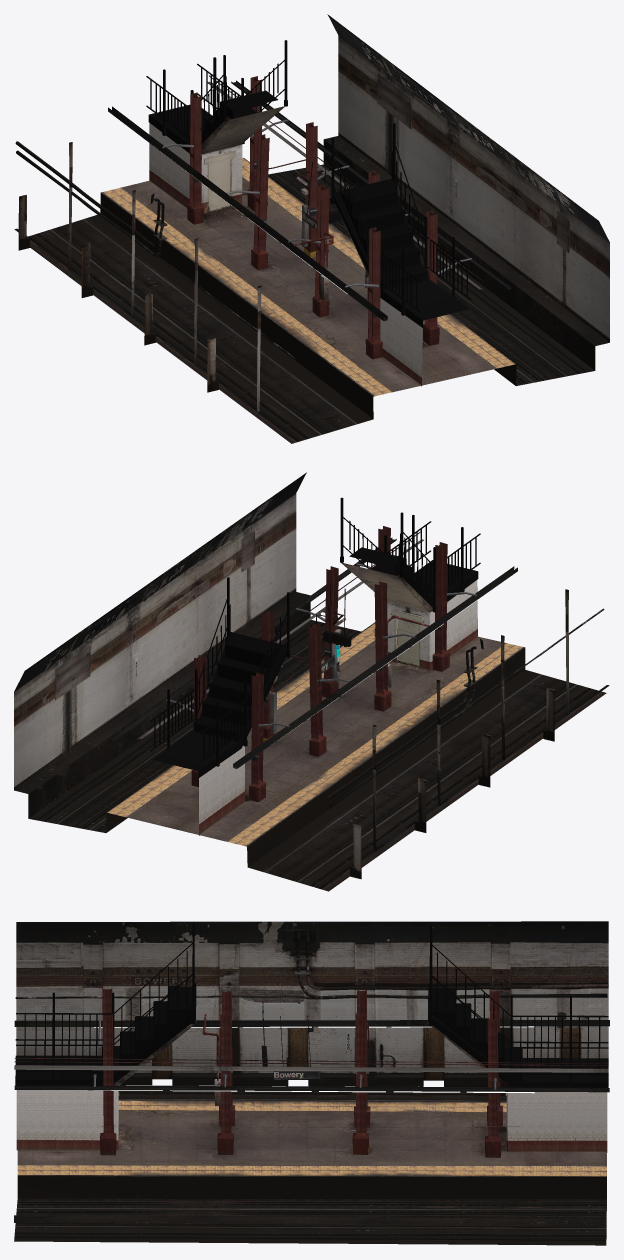
The model's file is bowery3.gltf.
3 renders of one model, top to bottom at view 1: azimuth 30°, elevation 25°; view 2: azimuth 150°, elevation 25°; view 3: azimuth 270°, elevation 25°, orthographic. The views are drawn at different scales.
Parts seen in each view (by area): view 1: floor_rails1:polySurface1, walls_geo:polySurface1, center1, poles1, geo_pole_se:polySurface2; view 2: floor_rails1:polySurface1, walls_geo:polySurface1, center1, poles1, geo_pole_se:polySurface2; view 3: walls_geo:polySurface1, floor_rails1:polySurface1, center1, geo_pole_se:polySurface2, poles1, lamps.
Part boxes in pixels (left/top/right/bottom): floor_rails1:polySurface1: left=28, top=158, right=594, bottom=443; walls_geo:polySurface1: left=14, top=14, right=609, bottom=435; center1: left=146, top=40, right=471, bottom=386; poles1: left=187, top=76, right=439, bottom=359; geo_pole_se:polySurface2: left=108, top=75, right=511, bottom=320; floor_rails1:polySurface1: left=28, top=620, right=606, bottom=891; walls_geo:polySurface1: left=14, top=472, right=609, bottom=883; center1: left=150, top=497, right=480, bottom=835; poles1: left=191, top=526, right=449, bottom=802; geo_pole_se:polySurface2: left=111, top=531, right=517, bottom=768; walls_geo:polySurface1: left=14, top=921, right=608, bottom=1226; floor_rails1:polySurface1: left=14, top=1085, right=606, bottom=1245; center1: left=15, top=922, right=608, bottom=1152; geo_pole_se:polySurface2: left=14, top=998, right=609, bottom=1105; poles1: left=100, top=987, right=502, bottom=1157; lamps: left=93, top=1026, right=534, bottom=1093.
Size of the model in its own units: 7.57 by 4.61 by 10.97.
Materials: 6 (5 with a texture image).
